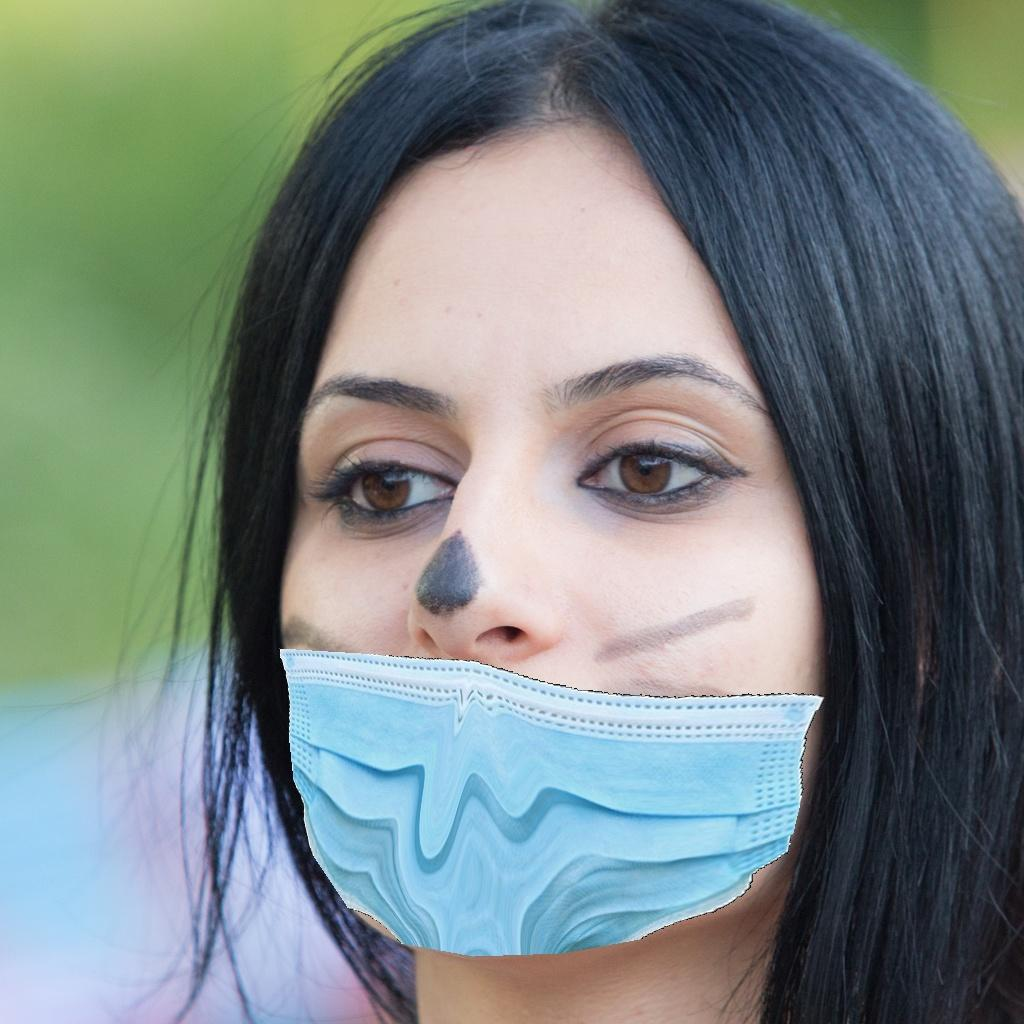Máscara Incorreta: (272, 249, 862, 964)
